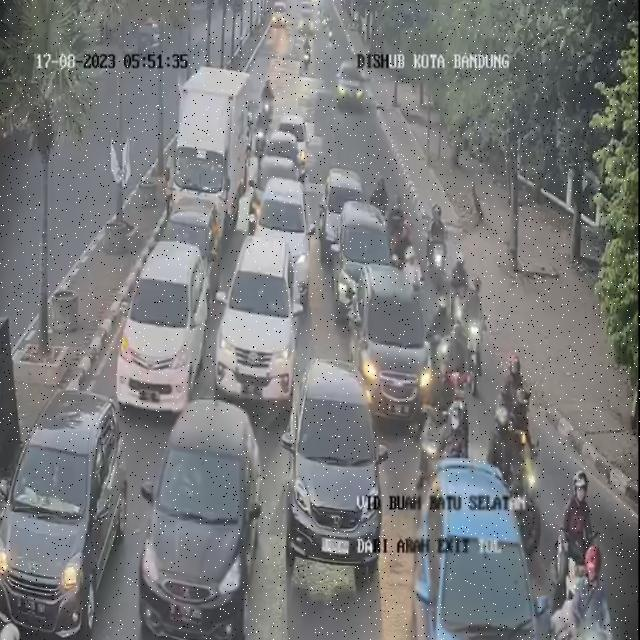cars: (120, 400, 276, 636), (0, 380, 127, 622), (406, 451, 540, 640), (286, 354, 374, 560), (212, 225, 300, 410), (349, 250, 430, 424), (123, 229, 199, 407), (333, 201, 390, 314), (266, 178, 308, 287), (319, 168, 368, 244), (248, 158, 298, 220), (333, 51, 374, 121), (258, 126, 302, 175), (278, 108, 314, 165), (298, 4, 316, 34), (270, 1, 286, 32)
motorcycle: (542, 545, 606, 640), (410, 351, 454, 477), (556, 472, 596, 598), (443, 367, 478, 463), (486, 397, 518, 497), (424, 198, 454, 280), (460, 275, 482, 377), (428, 282, 450, 373), (496, 352, 525, 417), (398, 224, 420, 293), (452, 252, 474, 320), (385, 190, 403, 244), (372, 164, 394, 208), (252, 106, 268, 166), (260, 81, 274, 119), (301, 29, 314, 67)
truck: (166, 70, 254, 222)
